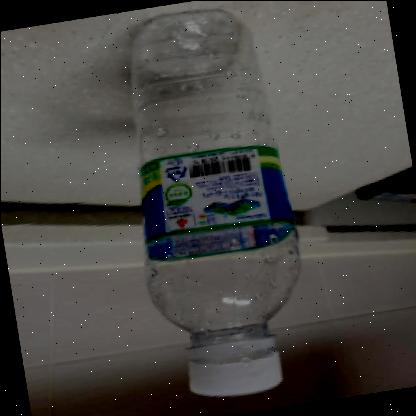Plastic Bottle: (131, 9, 299, 395)
